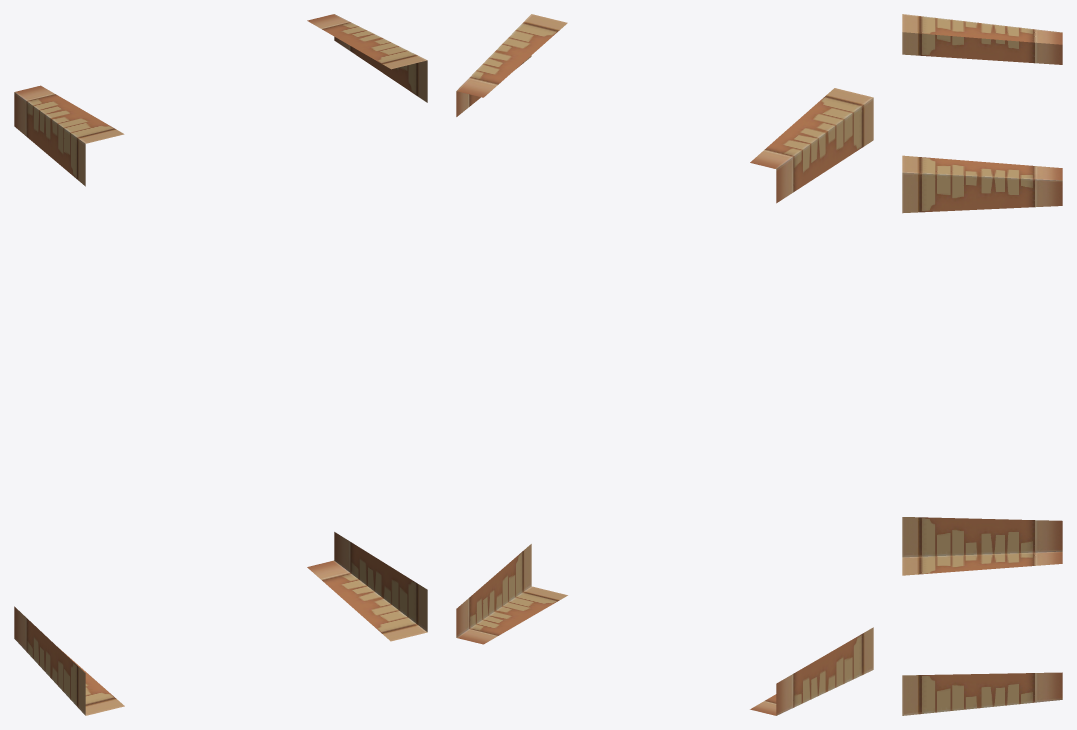
File: house_02_0_50512e64__ZombiesII_depot_diffuse_03_573b45f4_c1f257.obj
The picture shows the model from 3 angles, left to right: view 1: azimuth 30°, elevation 25°; view 2: azimuth 150°, elevation 25°; view 3: azimuth 270°, elevation 25°; orthographic projection. The views are drawn at different scales.
Size of the model in its own units: 12.06 by 19.27 by 5.15.
1 material, 1 textured.
